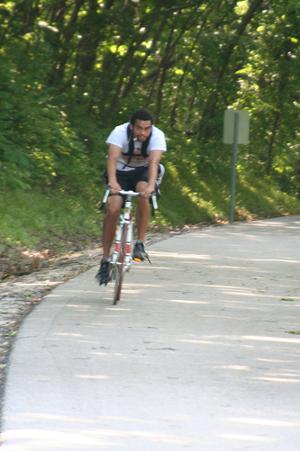person: (95, 109, 168, 286)
